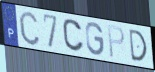7: (42, 13, 59, 51)
C: (17, 10, 41, 47), (62, 18, 86, 54)
D: (128, 28, 149, 63)
G: (84, 22, 105, 58)
P: (107, 24, 126, 60)
